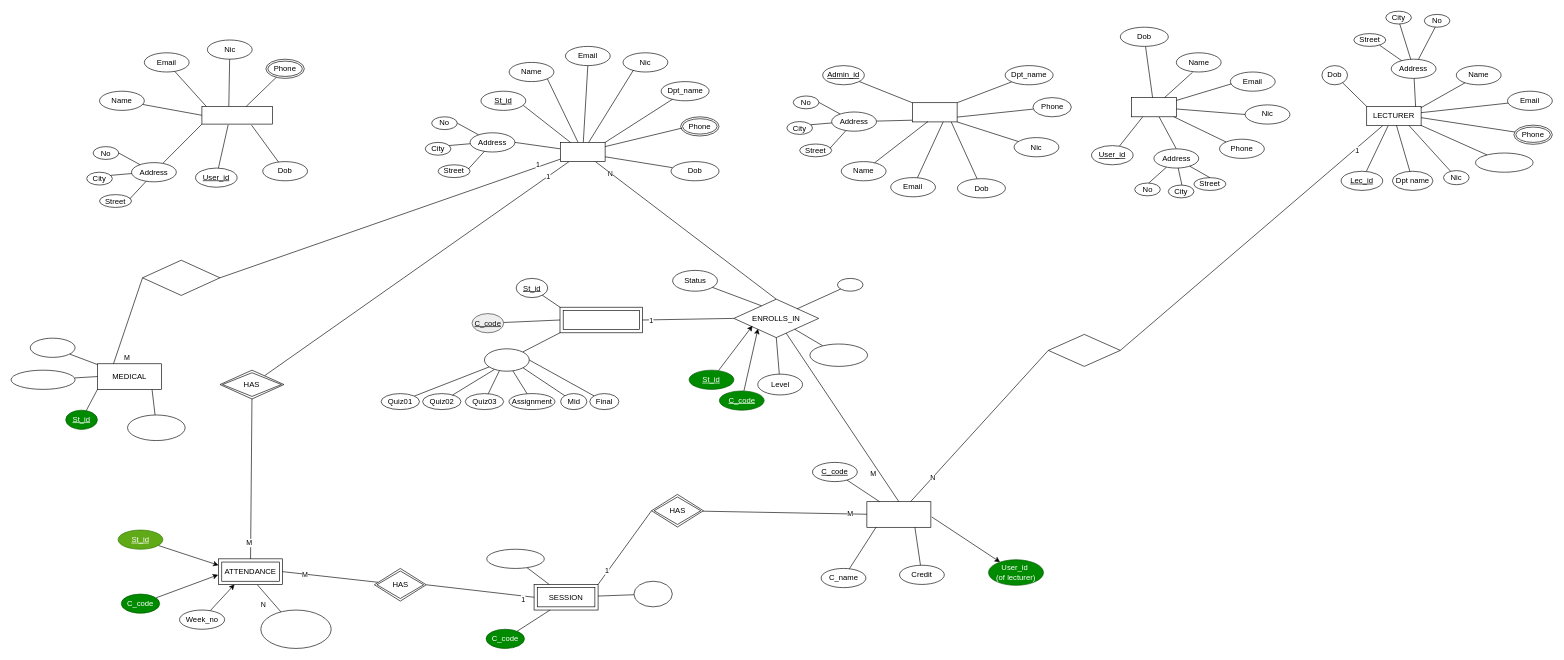
Image size: 1564x660. Some labels were removed from this diagram. The shapes that lost their labels are listed below. From the top down, each one's centre as x and y in pixels, then its label:
(236,115): TECH_OFFICER
(934,112): ADMIN
(1153,107): DEAN
(582,152): STUDENT
(1504,162): Education_lvl
(181,277): SUBMITS
(850,284): Sem
(601,320): EXAM_MARKS
(52,347): Medical_id
(506,359): Marks
(838,354): Academic_yr
(1084,350): TEACHES
(42,379): Date_submitted
(156,427): Status (Approved or not)
(898,514): COURSE
(515,558): Session_id
(652,594): Type (P/T)
(295,628): Status Practical?theory/Medical
